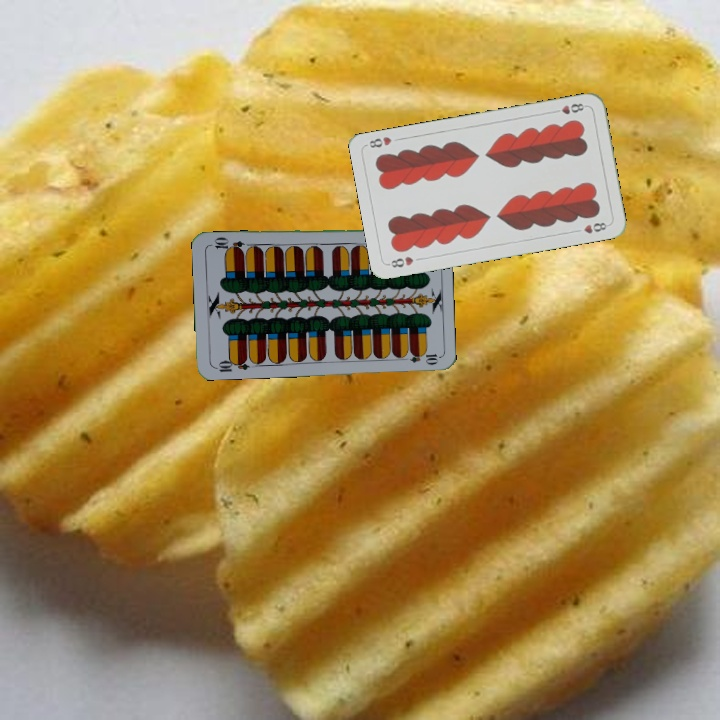E10: (211, 354, 251, 374)
H8: (549, 99, 589, 117), (385, 252, 416, 270)
